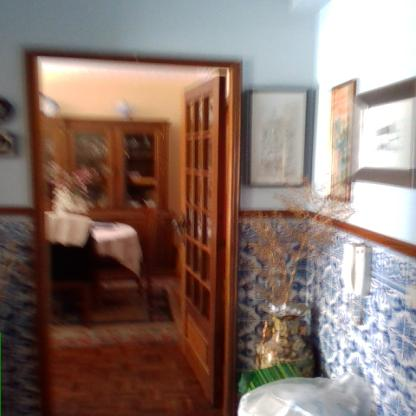open: (5, 39, 258, 415)
